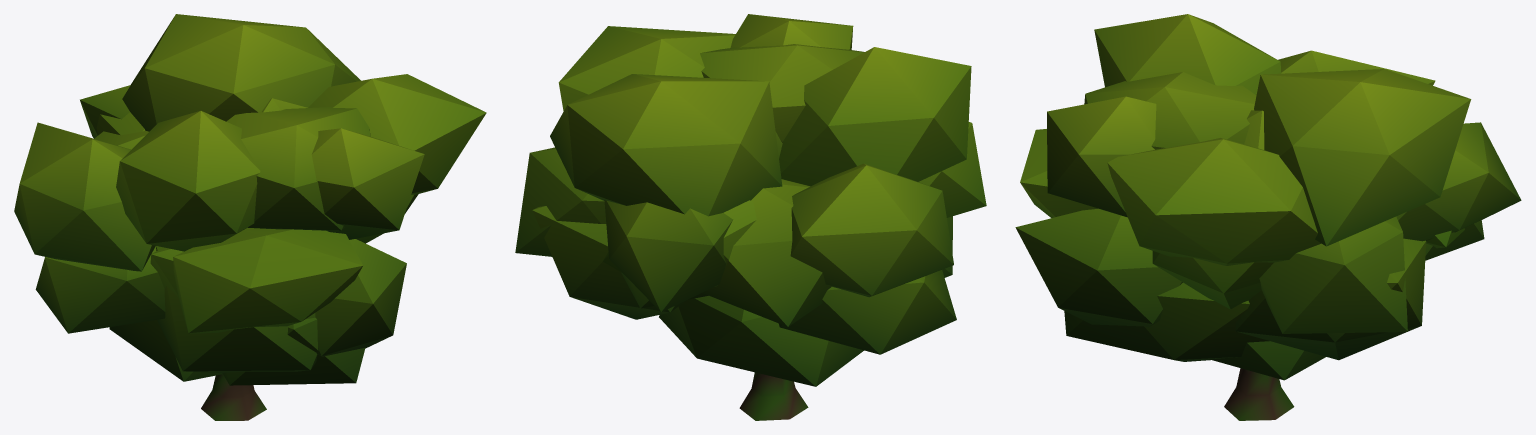
File: bigleaf-maple-c-distant.glb
The picture shows the model from 3 angles, left to right: view 1: azimuth 30°, elevation 25°; view 2: azimuth 150°, elevation 25°; view 3: azimuth 270°, elevation 25°; orthographic projection. The views are drawn at different scales.
Parts seen in each view (by area): view 1: bigleaf-maple-c-distant.Leaves, bigleaf-maple-c-distant.Bark; view 2: bigleaf-maple-c-distant.Leaves, bigleaf-maple-c-distant.Bark; view 3: bigleaf-maple-c-distant.Leaves, bigleaf-maple-c-distant.Bark.
Boxes of the visible parts, <box> form: bigleaf-maple-c-distant.Leaves: <box>14,14,486,385</box>; bigleaf-maple-c-distant.Bark: <box>201,374,266,420</box>; bigleaf-maple-c-distant.Leaves: <box>515,14,986,386</box>; bigleaf-maple-c-distant.Bark: <box>739,372,808,420</box>; bigleaf-maple-c-distant.Leaves: <box>1015,14,1521,380</box>; bigleaf-maple-c-distant.Bark: <box>1224,368,1294,420</box>.
Size of the model in its own units: 14.57 by 12.01 by 15.31.
